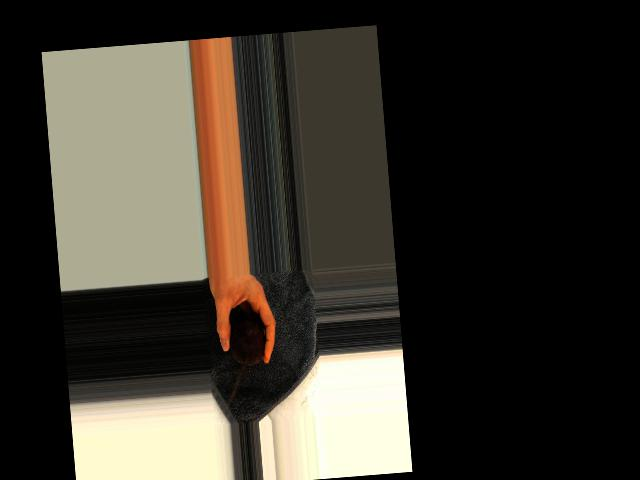beet: (227, 318, 267, 366)
